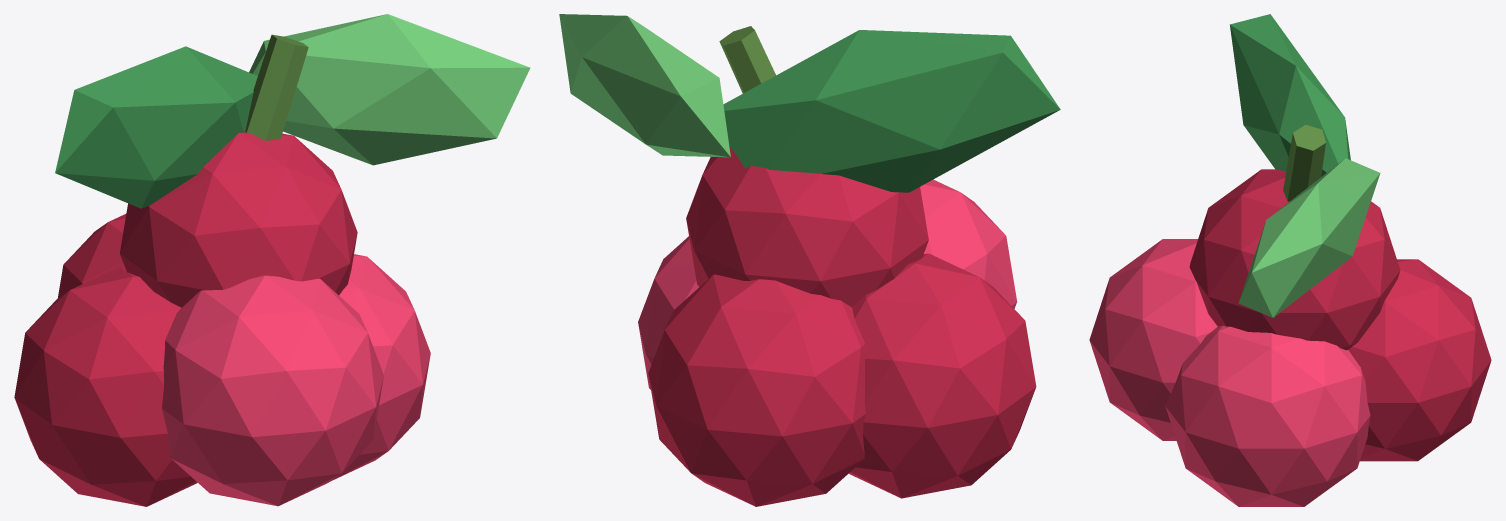
Rendered from pickup_berry.glb.
3 views of the same model, side by side, from view 1: azimuth 30°, elevation 25°; view 2: azimuth 150°, elevation 25°; view 3: azimuth 270°, elevation 25° (orthographic). The views are drawn at different scales.
Parts seen in each view (by area): view 1: Berry_4, Berry_1, Berry_5, Berry_Leaf_B, Berry_Leaf_A, Berry_2, Berry_Stem, Berry_3; view 2: Berry_3, Berry_Leaf_A, Berry_1, Berry_5, Berry_Leaf_B, Berry_4, Berry_2, Berry_Stem; view 3: Berry_2, Berry_3, Berry_5, Berry_4, Berry_Leaf_B, Berry_Leaf_A, Berry_Stem.
Part boxes in pixels (x1,y1,x2,y2): Berry_4: [162, 275, 383, 506]; Berry_1: [14, 266, 197, 506]; Berry_5: [119, 132, 357, 307]; Berry_Leaf_B: [249, 14, 530, 165]; Berry_Leaf_A: [55, 46, 257, 208]; Berry_2: [331, 254, 430, 480]; Berry_Stem: [245, 34, 308, 140]; Berry_3: [57, 214, 126, 298]; Berry_3: [648, 274, 865, 506]; Berry_Leaf_A: [723, 30, 1060, 192]; Berry_1: [849, 253, 1036, 498]; Berry_5: [686, 145, 928, 307]; Berry_Leaf_B: [559, 14, 730, 157]; Berry_4: [920, 179, 1017, 308]; Berry_2: [638, 236, 699, 389]; Berry_Stem: [719, 26, 775, 93]; Berry_2: [1165, 325, 1370, 506]; Berry_3: [1348, 259, 1491, 461]; Berry_5: [1189, 169, 1400, 350]; Berry_4: [1089, 239, 1217, 440]; Berry_Leaf_B: [1238, 158, 1380, 317]; Berry_Leaf_A: [1229, 14, 1350, 176]; Berry_Stem: [1283, 124, 1325, 201].
Size of the model in its own units: 0.6427 by 0.5651 by 0.53.
